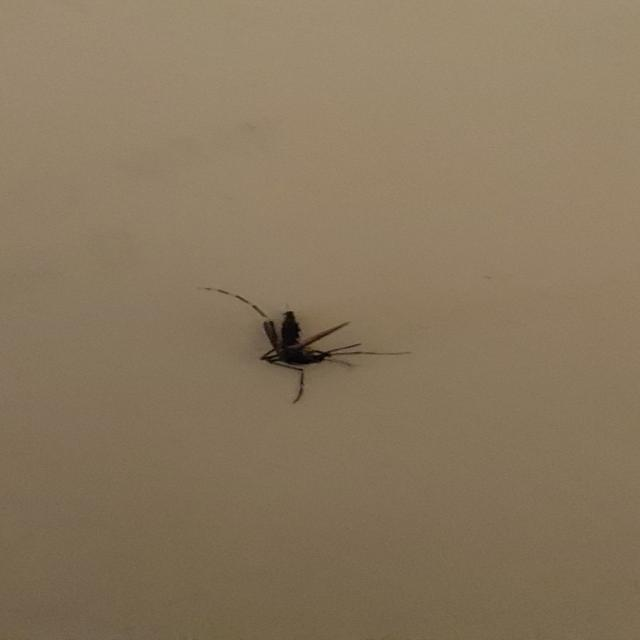albopictus: (181, 276, 416, 408)
